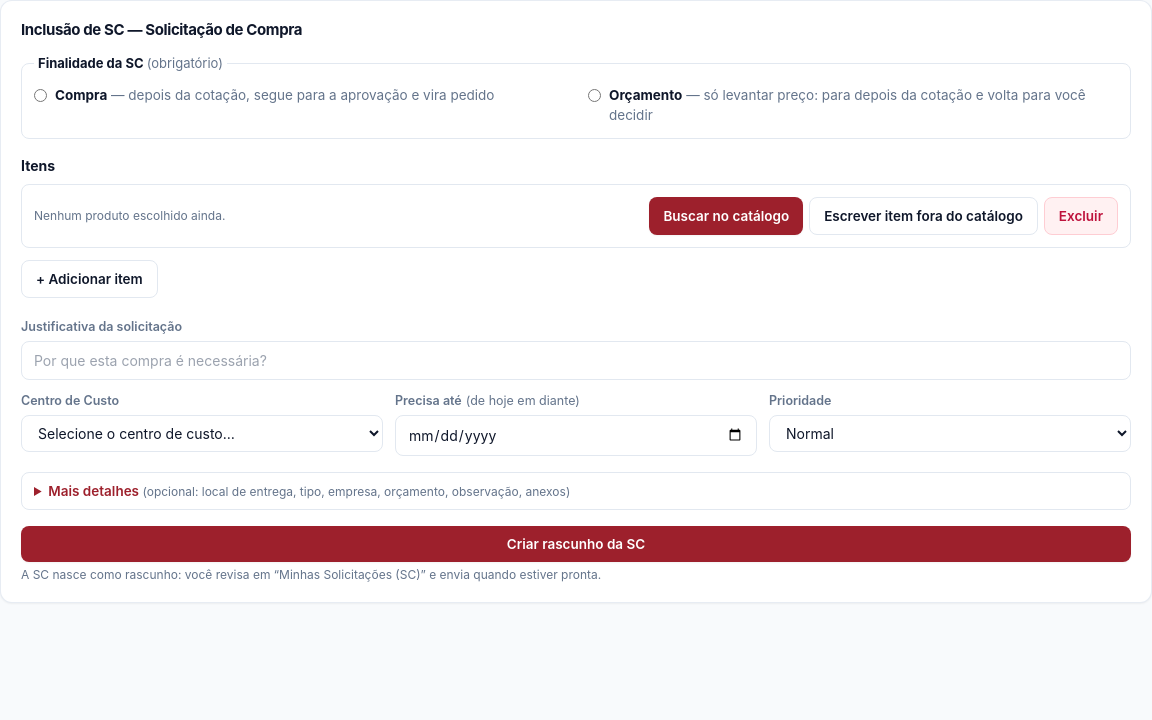
Test: tela Inclusão de SC › produto sem grade não mostra tamanhos, e a família vem do cadastro
Click the button "Buscar no catálogo".
click(726, 216)  # box x1=649 y1=196 x2=803 y2=235
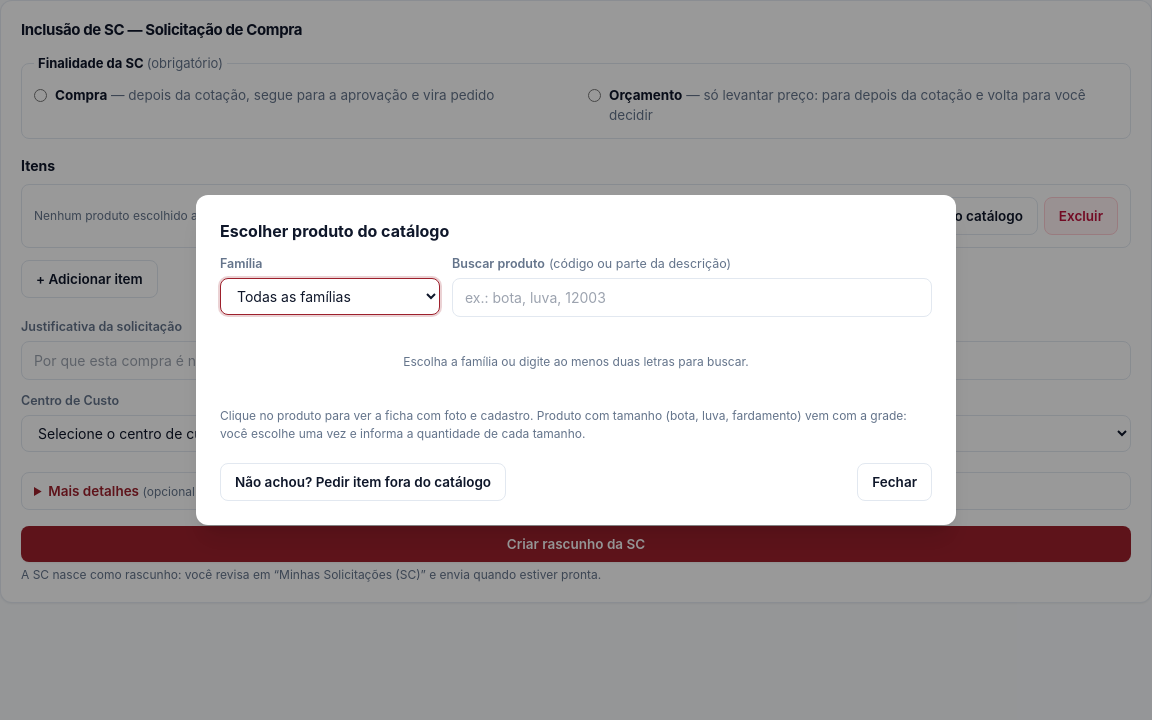
Select "EPI" in the dropdown labelled "Família" at (330, 296), box x1=220 y1=278 x2=440 y2=315
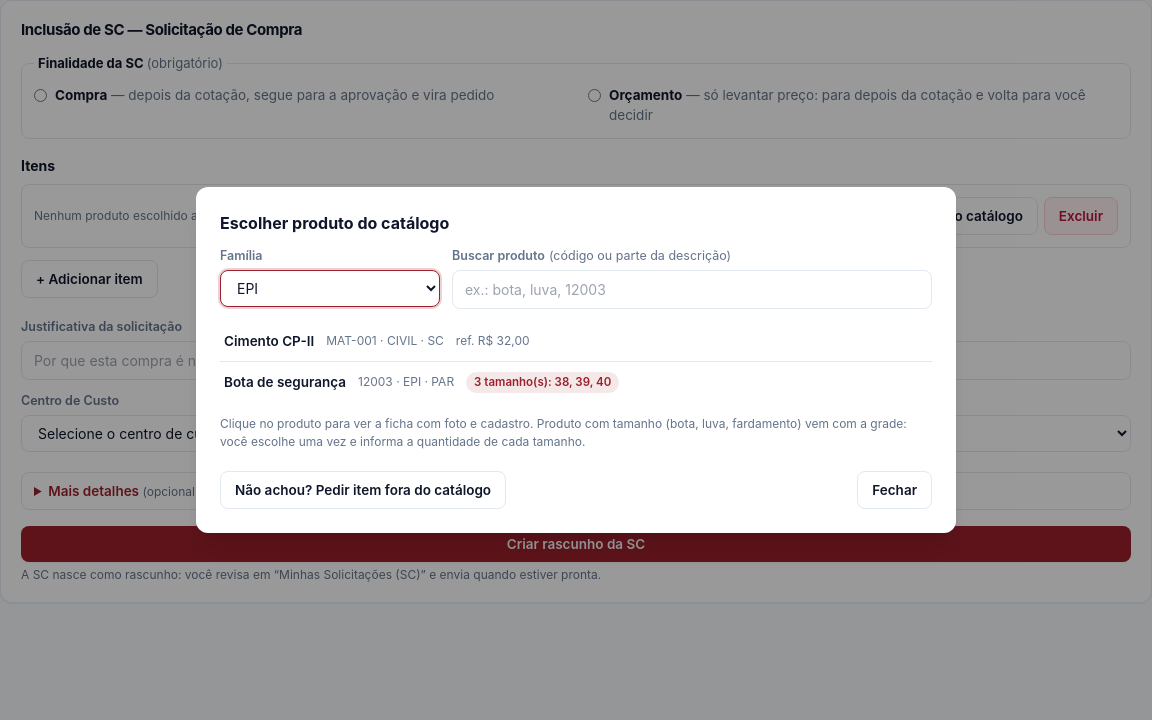
Click the button "Cimento CP-II MAT-001 · CIVIL · SC ref. R$ 32,00".
click(269, 340)  # box x1=220 y1=320 x2=932 y2=361
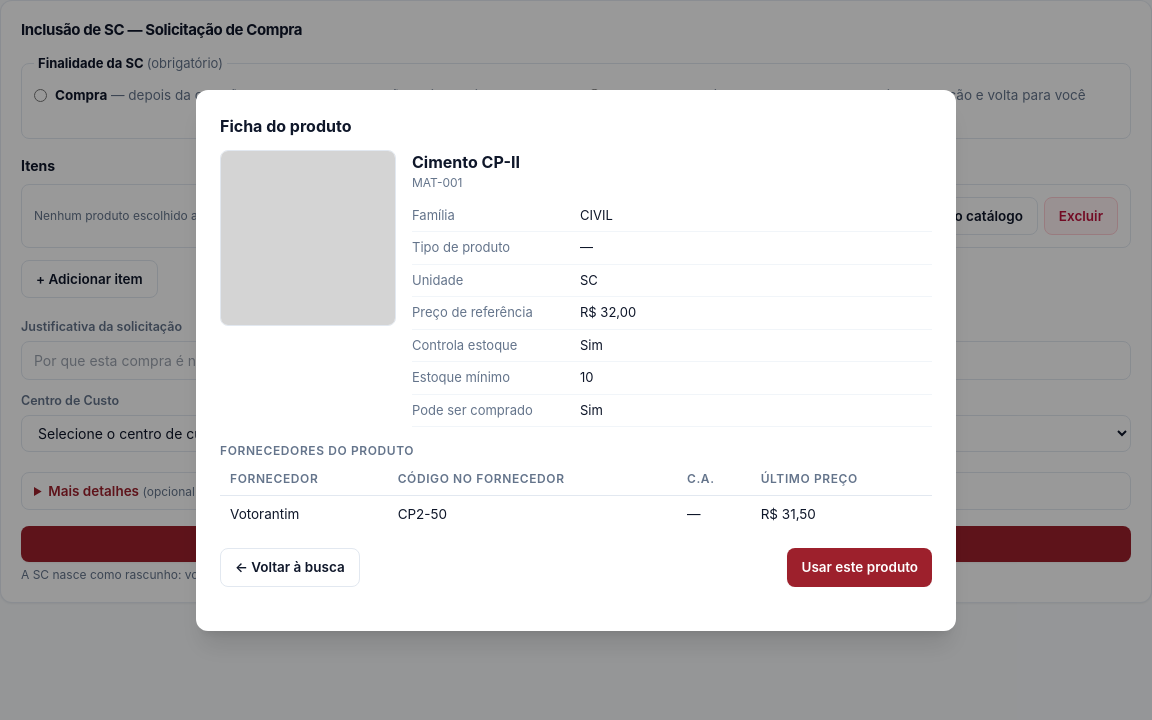
Click the button "Usar este produto".
click(860, 567)  # box x1=788 y1=548 x2=932 y2=587
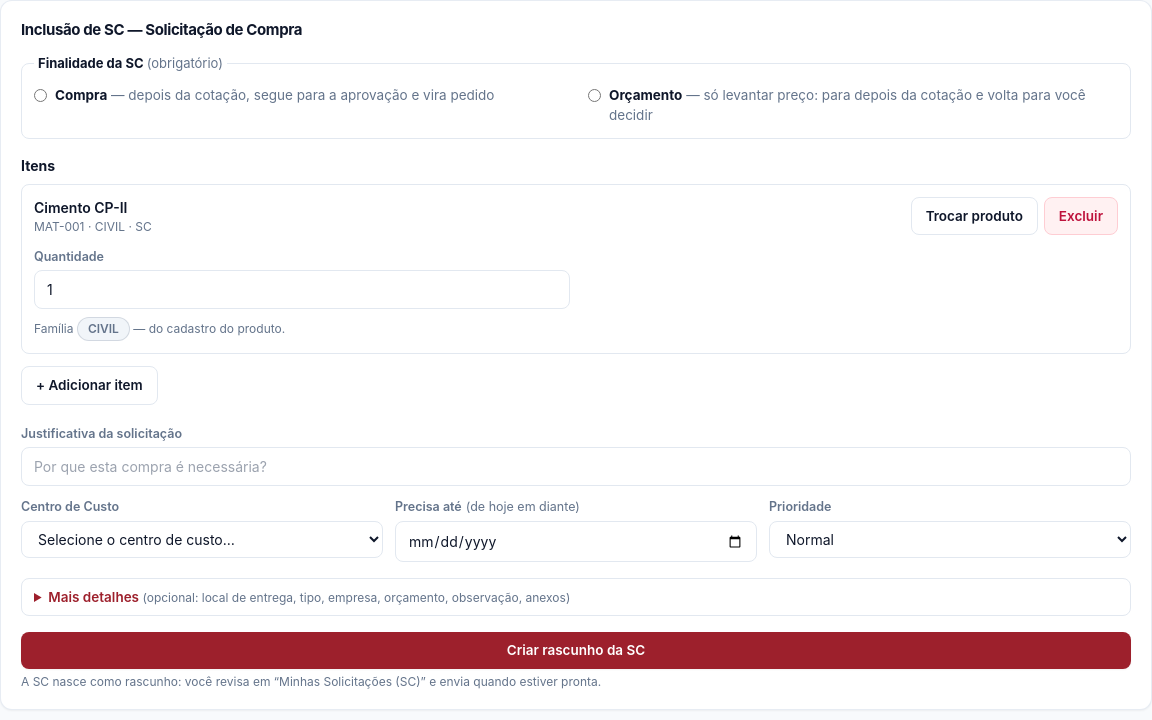
Expected: the number field named "Quantidade de Cimento CP-II" holds "1", x1=34 y1=270 x2=570 y2=309
Expected: the text "Família CIVIL — do cadastro do produto." is shown, x1=34 y1=317 x2=285 y2=341
